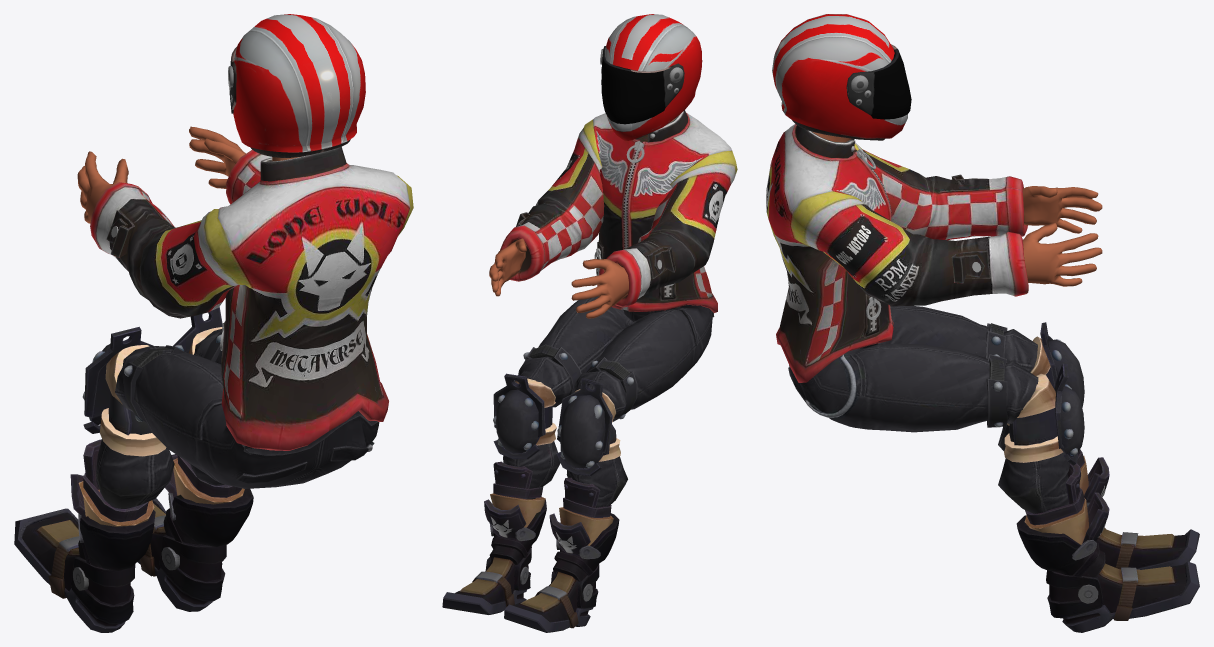
The model's file is driver_human_seated.glb.
3 views of the same model, side by side, from view 1: azimuth 30°, elevation 25°; view 2: azimuth 150°, elevation 25°; view 3: azimuth 270°, elevation 25° (orthographic). The views are drawn at different scales.
Visible parts, largest first — view 1: Object_105_baked, Object_101_baked, Object_103_baked, Object_97_baked, Object_99_baked; view 2: Object_101_baked, Object_105_baked, Object_103_baked, Object_97_baked, Object_99_baked; view 3: Object_105_baked, Object_101_baked, Object_97_baked, Object_103_baked, Object_99_baked.
Boxes of the visible parts, bbox=[...] form: Object_105_baked: bbox=[90, 147, 413, 450]; Object_101_baked: bbox=[70, 307, 379, 526]; Object_103_baked: bbox=[14, 488, 253, 632]; Object_97_baked: bbox=[228, 14, 365, 157]; Object_99_baked: bbox=[77, 126, 245, 223]; Object_101_baked: bbox=[484, 296, 714, 556]; Object_105_baked: bbox=[500, 110, 737, 312]; Object_103_baked: bbox=[442, 500, 619, 632]; Object_97_baked: bbox=[600, 14, 702, 140]; Object_99_baked: bbox=[489, 238, 628, 318]; Object_105_baked: bbox=[766, 124, 1028, 382]; Object_101_baked: bbox=[788, 306, 1109, 544]; Object_97_baked: bbox=[772, 14, 911, 140]; Object_103_baked: bbox=[1016, 502, 1199, 632]; Object_99_baked: bbox=[1023, 186, 1102, 286].
Bounding box in the file's own units: 0.4641 × 1.34 × 0.8878.
8 materials, 8 textured.
